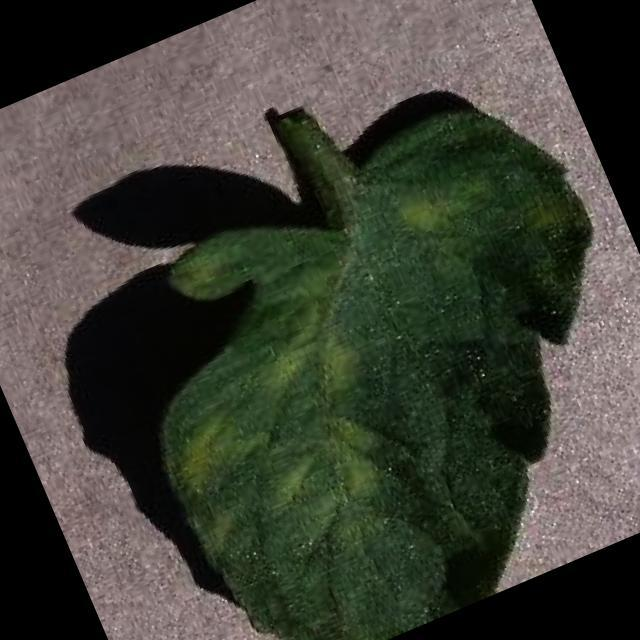Tomato mold leaf: (79, 81, 640, 640)
